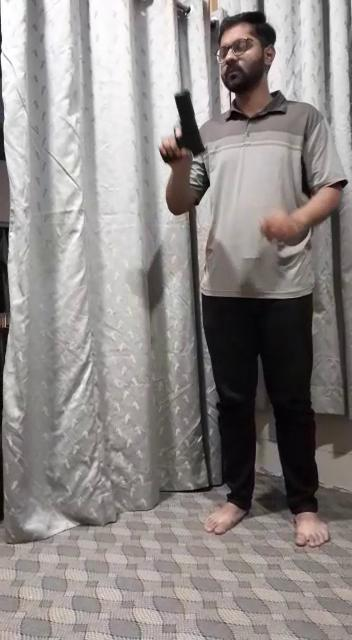criminal: (155, 10, 349, 549)
weapon: (156, 85, 209, 166)
